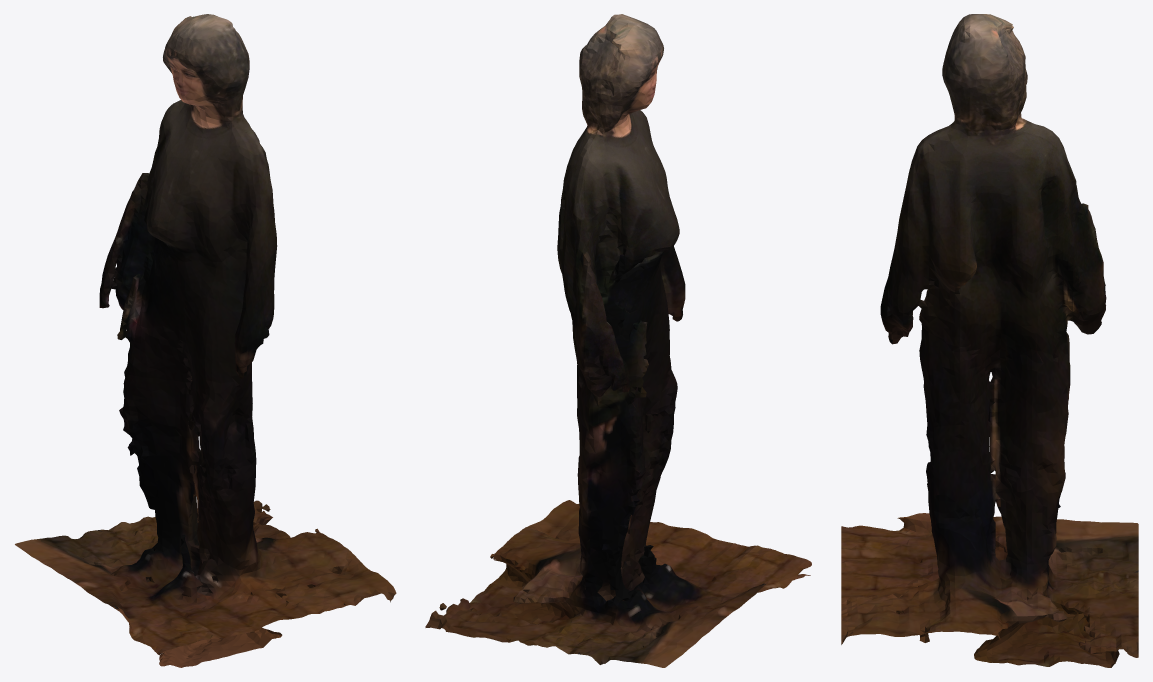
Rendered from mbo_friends_Bec.glb.
3 renders of one model, left to right at view 1: azimuth 30°, elevation 25°; view 2: azimuth 150°, elevation 25°; view 3: azimuth 270°, elevation 25°, orthographic.
Bounding box in the file's own units: 0.7369 × 1.75 × 0.788.
Materials: 1 (1 with a texture image).
